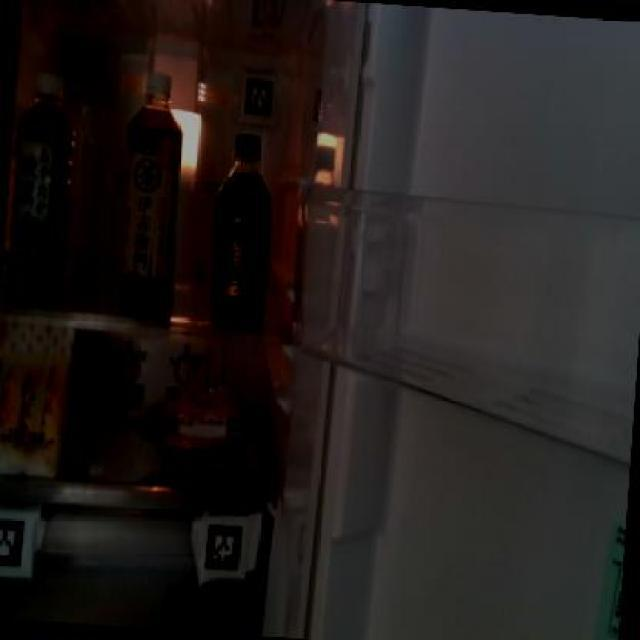bento: (133, 390, 272, 476)
coffee: (204, 128, 280, 326)
sandwich: (0, 318, 78, 479)
tea_a: (2, 80, 81, 311)
tea_i: (113, 69, 192, 320)
